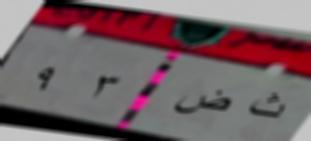3: (88, 70, 127, 104)
9: (32, 61, 60, 98)
daad: (175, 88, 233, 121)
thaa: (245, 89, 288, 127)
